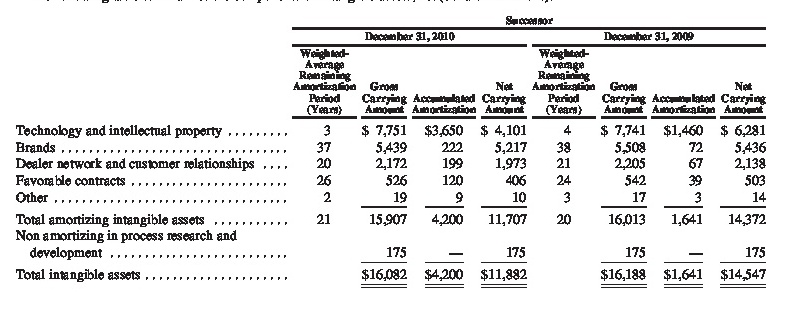table: (0, 0, 786, 314)
